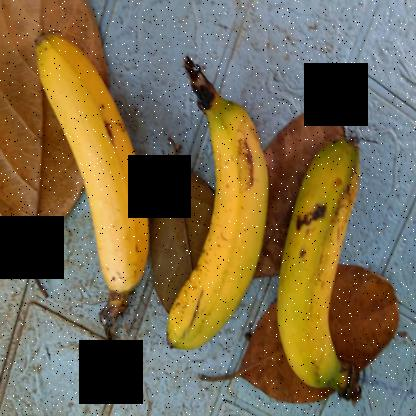freshripe: (24, 32, 161, 334)
ripe: (156, 62, 270, 378), (272, 127, 388, 408)
